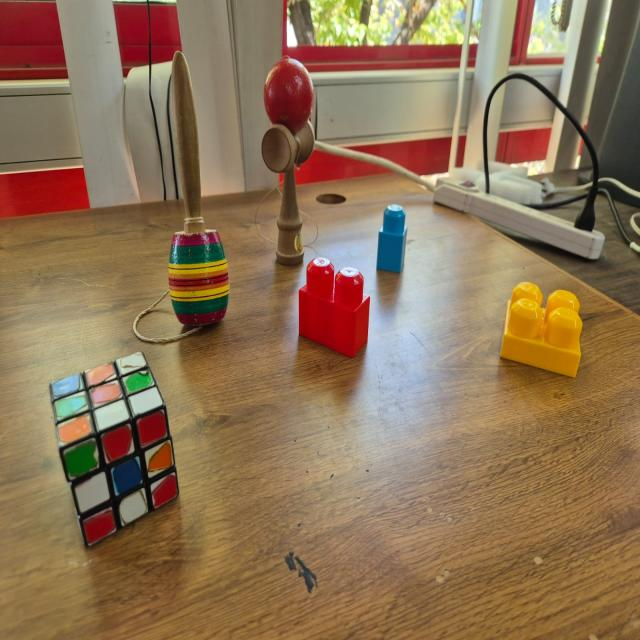balero: (130, 49, 231, 348)
balero ball: (253, 54, 319, 269)
lego 2: (298, 259, 373, 358)
lego 4: (499, 280, 585, 378)
lego_1: (377, 204, 407, 274)
rubick: (48, 349, 178, 548)
